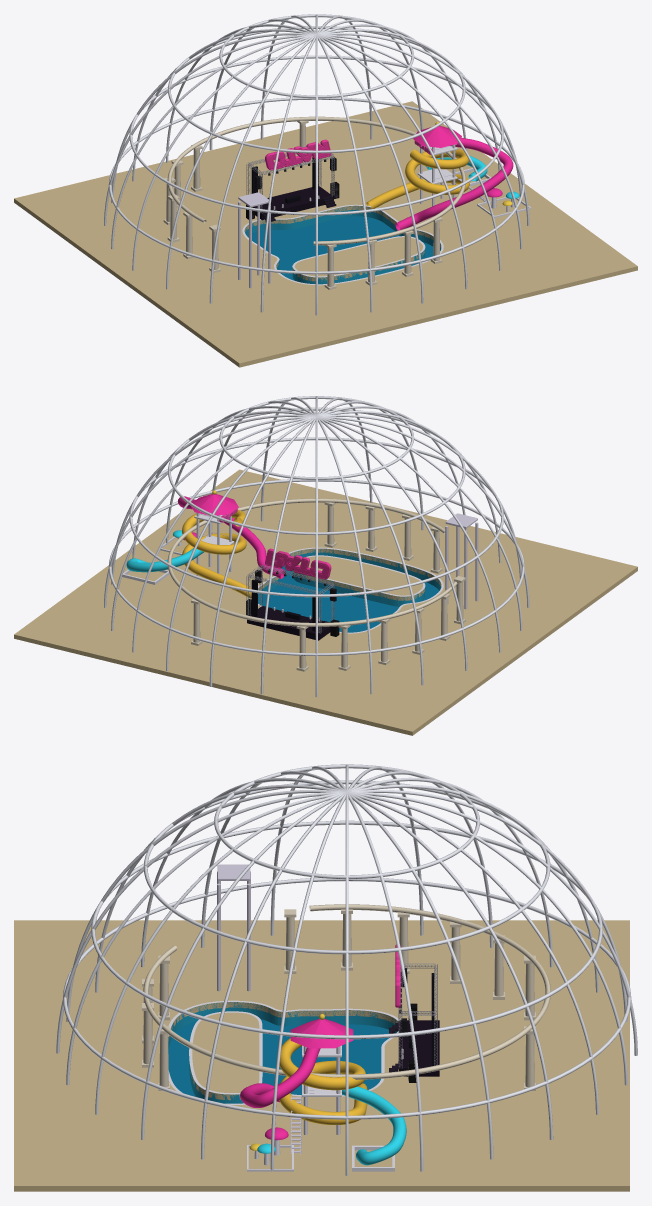
File: aqua.glb
The picture shows the model from 3 angles, top to bottom: view 1: azimuth 30°, elevation 25°; view 2: azimuth 150°, elevation 25°; view 3: azimuth 270°, elevation 25°; orthographic projection. The views are drawn at different scales.
Visible parts, largest first — view 1: baked; view 2: baked; view 3: baked.
Part boxes in pixels (x1,y1,x2,y2): baked: (14,14,637,367); baked: (14,396,637,735); baked: (14,764,637,1191).
Size of the model in its own units: 100 by 48.38 by 99.28.
